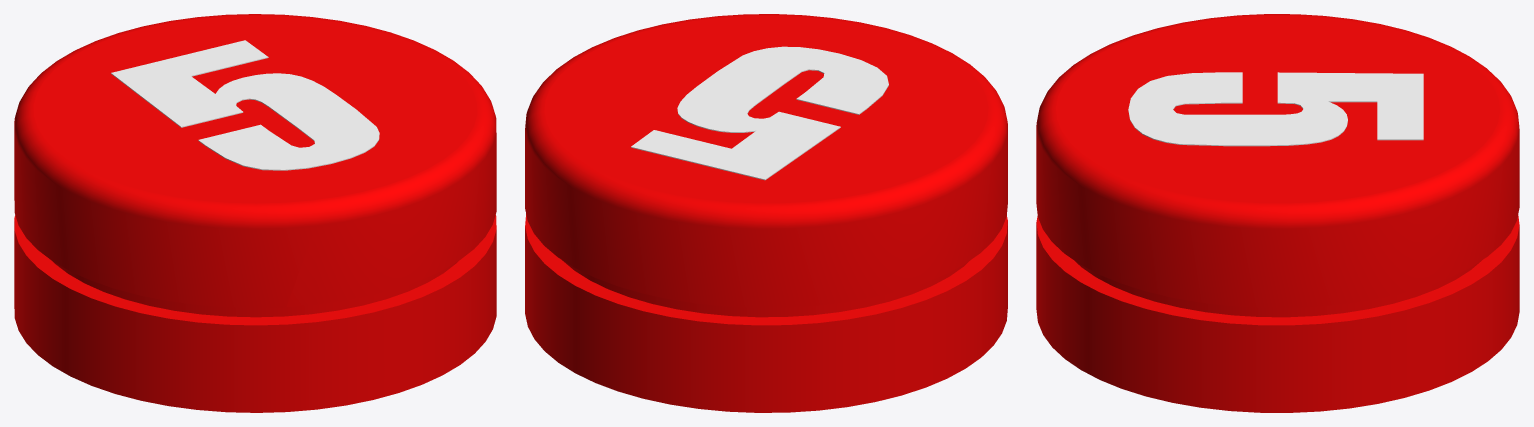
File: nubot_frame5_red.dae
3 views of the same model, side by side, from view 1: azimuth 30°, elevation 25°; view 2: azimuth 150°, elevation 25°; view 3: azimuth 270°, elevation 25° (orthographic).
Parts seen in each view (by area): view 1: SketchUp (×3), instance_0; view 2: SketchUp (×3), instance_0; view 3: SketchUp (×3), instance_0.
Part boxes in pixels (x1=…): SketchUp (×3): x1=14, y1=14, x2=496, y2=412; instance_0: x1=111, y1=40, x2=379, y2=170; SketchUp (×3): x1=525, y1=14, x2=1007, y2=412; instance_0: x1=631, y1=46, x2=888, y2=180; SketchUp (×3): x1=1036, y1=14, x2=1519, y2=412; instance_0: x1=1128, y1=72, x2=1423, y2=146.
Bounding box in the file's own units: 19.66 × 19.68 × 9.09.
